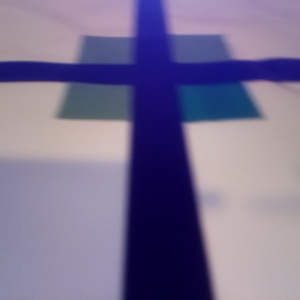bottom_left: (58, 65, 176, 119)
bottom_right: (135, 63, 259, 121)
top_left: (79, 36, 168, 84)
top_right: (138, 35, 230, 83)
